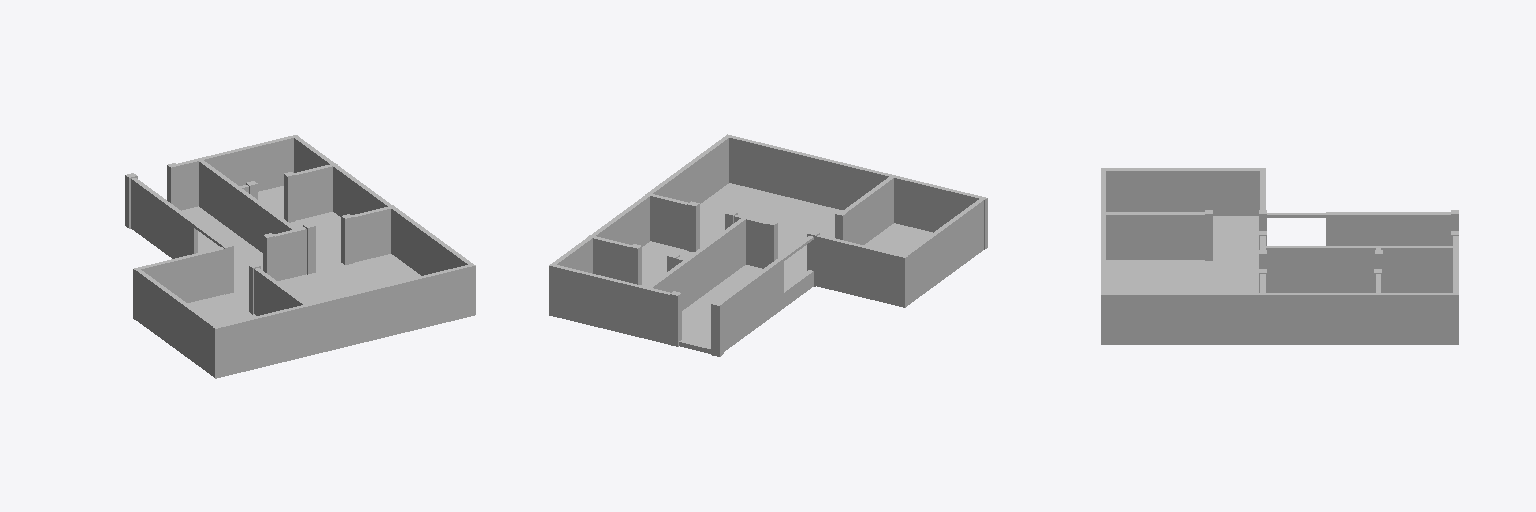
File: USSR apartment.obj
3 renders of one model, left to right at view 1: azimuth 30°, elevation 25°; view 2: azimuth 150°, elevation 25°; view 3: azimuth 270°, elevation 25°, orthographic.
Parts seen in each view (by area): view 1: Cube.007, Cube.001, Cube.002, Cube.020, Cube.014, Cube.026, Cube.021, Cube.003, Cube.008, Cube.027, Cube.019, Cube.009 (+9 smaller); view 2: Cube.007, Cube.020, Cube.026, Cube.003, Cube.002, Cube.014, Cube.001, Cube.021, Cube.008, Cube.027, Cube, Cube.009 (+10 smaller); view 3: Cube.014, Cube.008, Cube.002, Cube.015, Cube.026, Cube, Cube.021, Cube.030, Cube.006, Cube.020.
Part boxes in pixels (x1,y1,x2,y2): Cube.007: (309, 264, 474, 354); Cube.001: (213, 305, 305, 378); Cube.002: (136, 269, 220, 378); Cube.020: (178, 135, 298, 210); Cube.014: (197, 158, 299, 252); Cube.026: (232, 254, 420, 305); Cube.021: (131, 178, 197, 258); Cube.003: (133, 247, 224, 319); Cube.008: (391, 206, 475, 315); Cube.027: (182, 206, 262, 289); Cube.019: (294, 163, 337, 219); Cube.009: (352, 205, 393, 262); Cube.007: (726, 135, 891, 209); Cube.020: (549, 264, 669, 344); Cube.026: (700, 183, 842, 276); Cube.003: (816, 235, 907, 307); Cube.002: (900, 199, 983, 307); Cube.014: (645, 218, 745, 310); Cube.001: (893, 176, 987, 249); Cube.021: (719, 257, 783, 351); Cube.008: (645, 134, 728, 203); Cube.027: (679, 265, 798, 353); Cube: (842, 175, 895, 244); Cube.009: (650, 194, 688, 249); Cube.014: (1260, 246, 1457, 292); Cube.008: (1101, 293, 1266, 344); Cube.002: (1101, 168, 1265, 215); Cube.015: (1267, 293, 1375, 344); Cube.026: (1106, 259, 1258, 292); Cube: (1101, 212, 1204, 259); Cube.021: (1326, 212, 1450, 245); Cube.030: (1381, 293, 1452, 344); Cube.006: (1213, 216, 1258, 259); Cube.020: (1453, 236, 1458, 344).
Bounding box in the file's own units: 10.92 × 2.05 × 13.03.